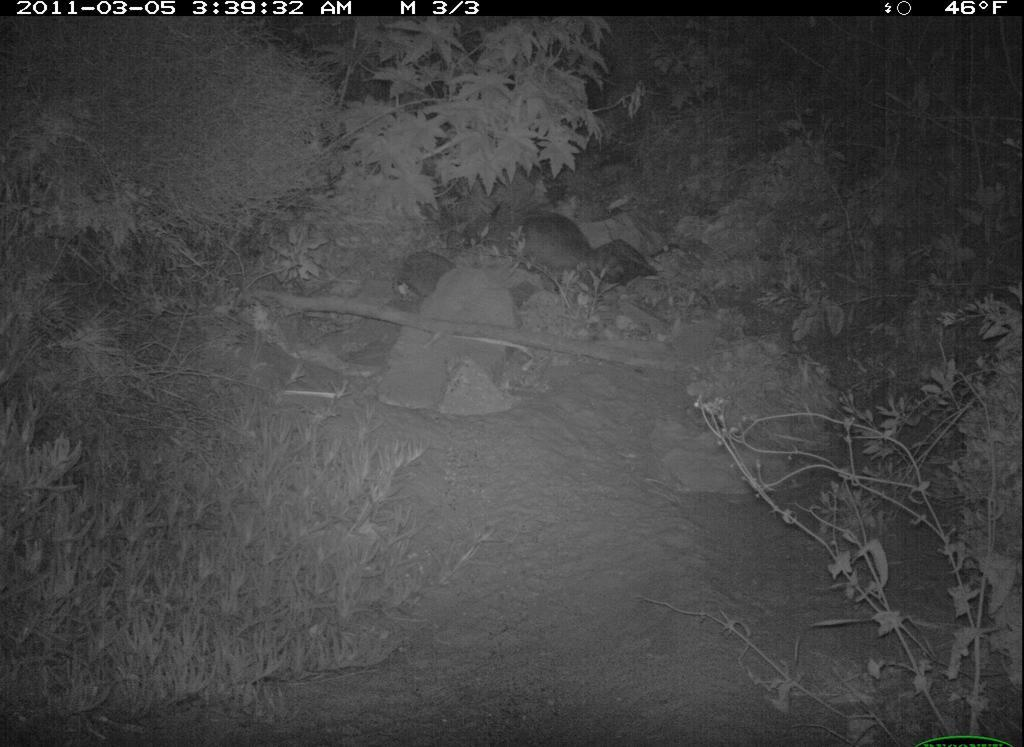raccoon: (497, 186, 644, 312)
